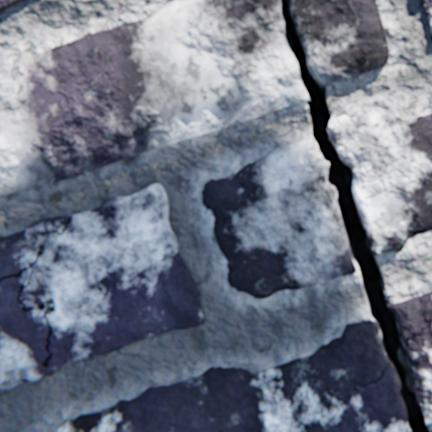brick: (0, 183, 205, 391), (0, 215, 71, 279), (420, 0, 431, 40), (0, 0, 26, 10)
broken_brick: (0, 0, 309, 196), (56, 319, 410, 431), (202, 139, 355, 297), (327, 107, 431, 253), (288, 0, 388, 84), (388, 290, 431, 424)
crack: (281, 0, 429, 431), (0, 215, 73, 367), (361, 365, 386, 385), (406, 326, 425, 344), (325, 412, 336, 426)
